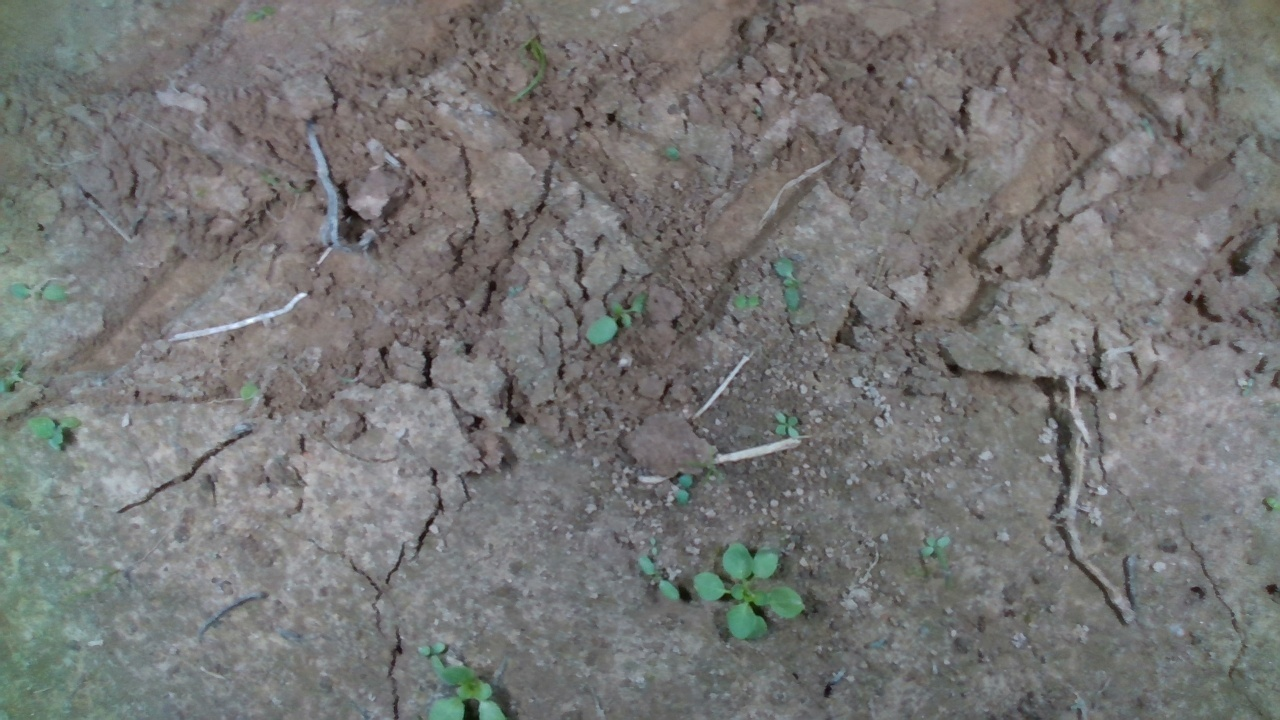weed: (582, 289, 651, 346), (636, 553, 680, 603), (771, 255, 803, 312), (772, 408, 799, 441), (670, 472, 693, 505), (731, 293, 760, 308)
